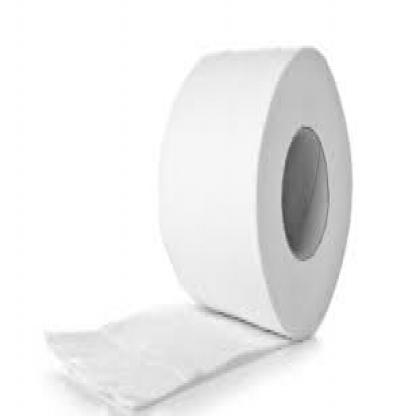tissue: (154, 41, 357, 351)
